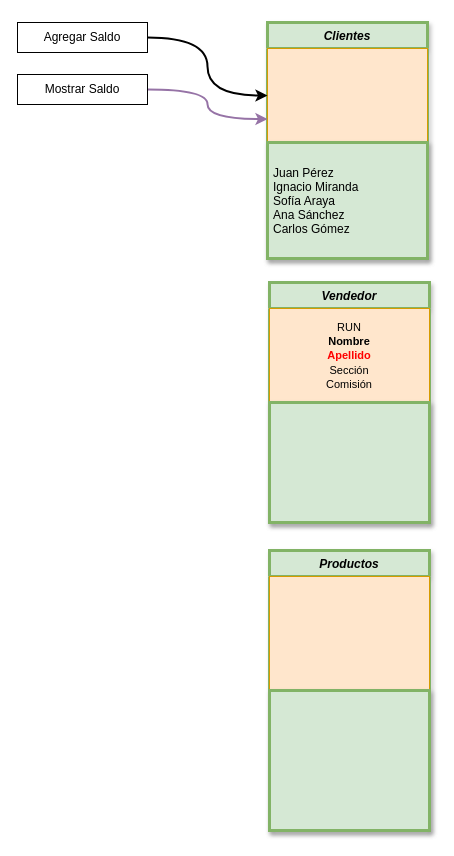
Image size: 454x856. Some labels were removed from this diagram. The centre of each missing label's shape, as x and y in pixels:
"Id Clientes Nombre Apellido Correo Fecha de Ingreso Saldo" goes at point 347,95.
"SKU Nombre Categoría Proveedor Stock Valor Neto Impuesto" goes at point 349,633.
"Vendedor 1 Vendedor 2 Vendedor 3 Vendedor 4 Vendedor 5" goes at point 350,463.
"Zapatilla Nike Polera Nike Zapato Nike Polerón Nike Chaqueta Nike Guantes Nike" goes at point 350,761.
